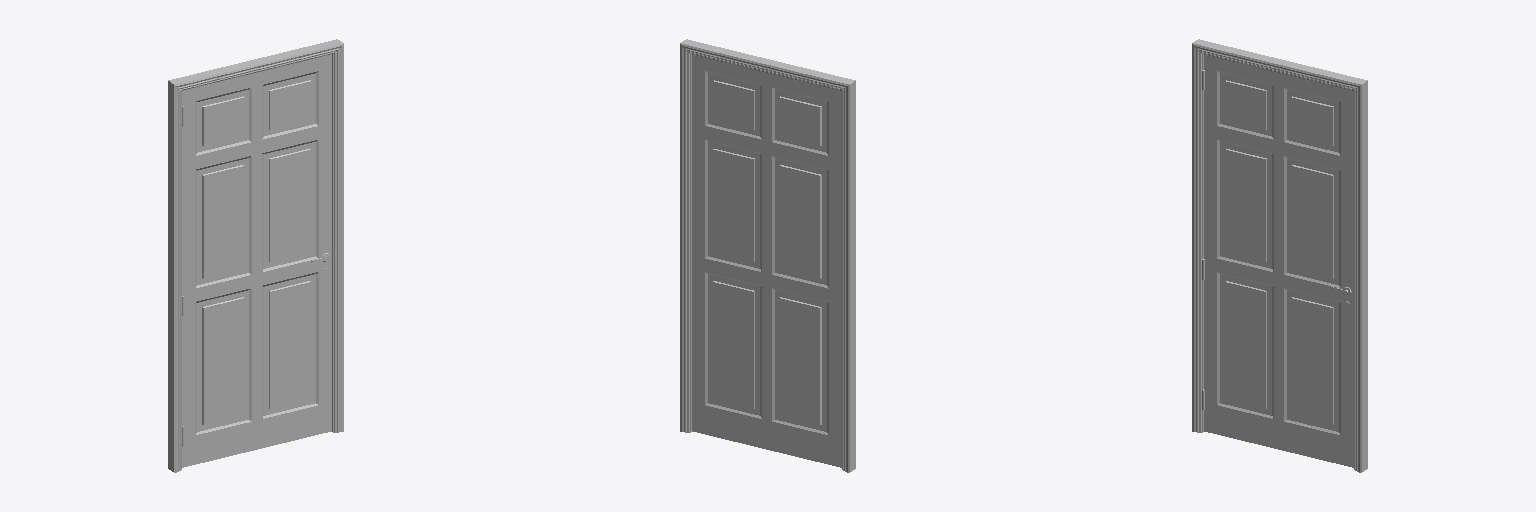
The model's file is usa.obj.
The picture shows the model from 3 angles: view 1: azimuth 30°, elevation 25°; view 2: azimuth 150°, elevation 25°; view 3: azimuth 330°, elevation 25°; orthographic projection.
Parts seen in each view (by area): view 1: usa; view 2: usa; view 3: usa.
Boxes of the visible parts, box(x1,y1,x2,y2) form: usa: box(168, 39, 343, 472); usa: box(680, 39, 855, 472); usa: box(1192, 39, 1367, 472).
Bounding box in the file's own units: 0.2512 × 0.549 × 0.0166.